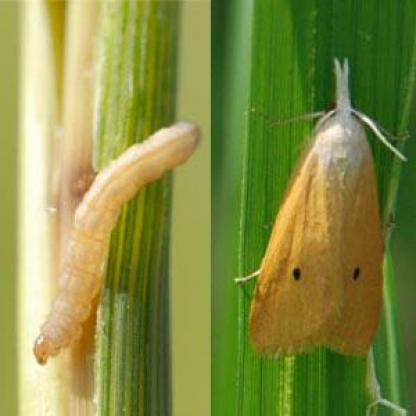stem-borer: (246, 55, 388, 363)
